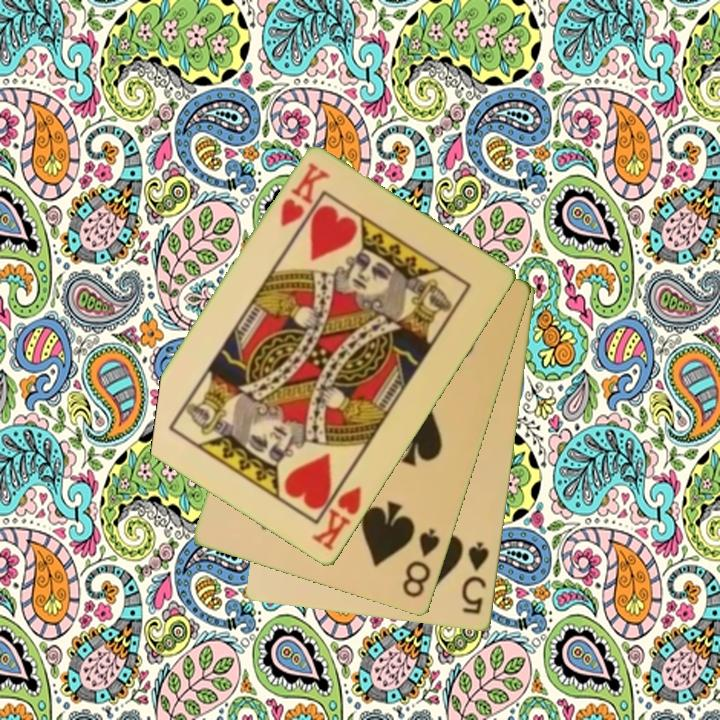5s: (458, 538, 492, 618)
8s: (399, 525, 443, 601)
Kh: (308, 471, 365, 554), (276, 159, 333, 231)
